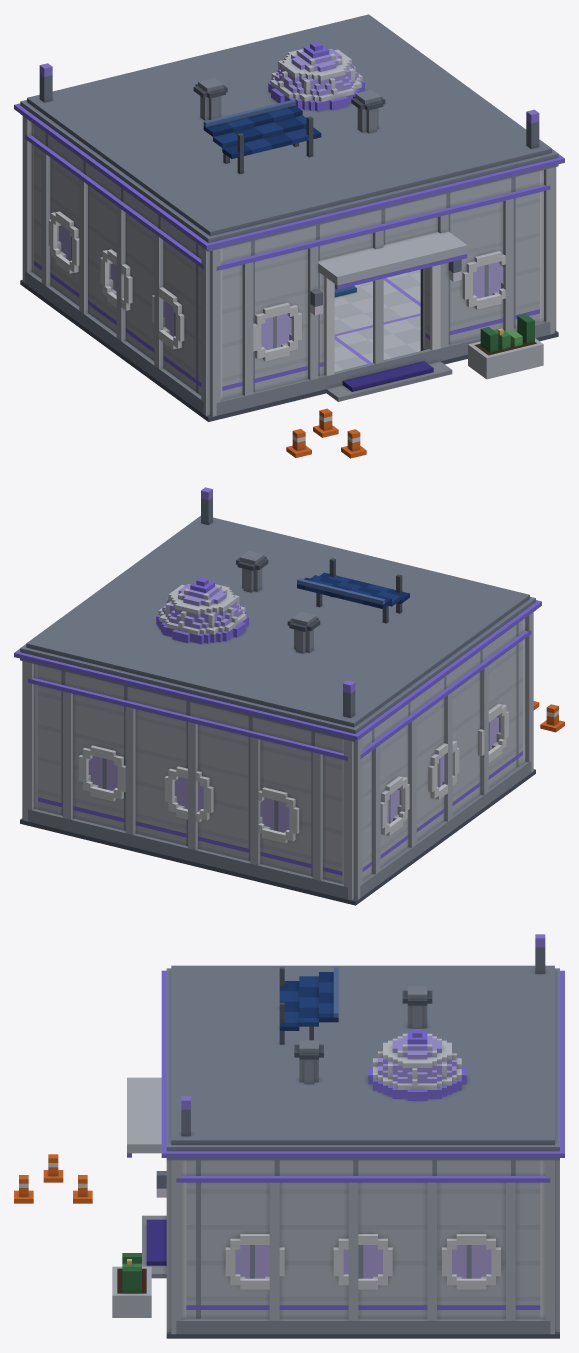
File: training_e5_l1.glb
3 renders of one model, top to bottom at view 1: azimuth 30°, elevation 25°; view 2: azimuth 150°, elevation 25°; view 3: azimuth 270°, elevation 25°, orthographic. The views are drawn at different scales.
Parts seen in each view (by area): view 1: CutRoof, CutPZ, Base, CutNX, CutNZ; view 2: CutRoof, CutNZ, Base, CutNX, CutPZ; view 3: CutRoof, CutPX, Base, CutPZ, CutNZ.
Boxes of the visible parts, x1=… form: CutRoof: x1=14, y1=14, x2=564, y2=251; CutPZ: x1=201, y1=167, x2=556, y2=378; Base: x1=20, y1=244, x2=558, y2=458; CutNX: x1=25, y1=124, x2=203, y2=369; CutNZ: x1=22, y1=116, x2=33, y2=247; CutRoof: x1=14, y1=487, x2=541, y2=742; CutNZ: x1=22, y1=661, x2=362, y2=863; Base: x1=20, y1=701, x2=564, y2=905; CutNX: x1=360, y1=620, x2=531, y2=855; CutPZ: x1=523, y1=612, x2=533, y2=738; CutRoof: x1=161, y1=934, x2=564, y2=1160; CutPX: x1=176, y1=1160, x2=550, y2=1293; Base: x1=14, y1=1154, x2=559, y2=1338; CutPZ: x1=127, y1=1077, x2=186, y2=1293; CutNZ: x1=540, y1=1160, x2=559, y2=1293.
Bounding box in the file's own units: 8.8 × 5.5 × 11.2.
